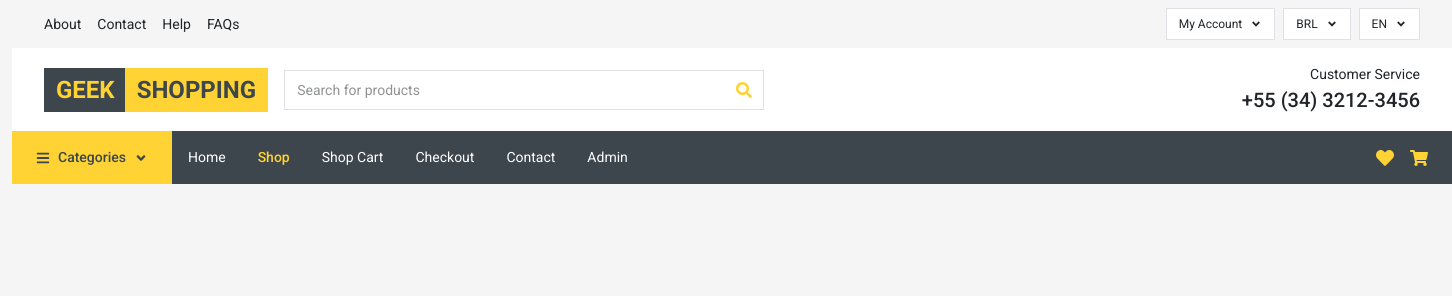
Header › closes the menu when a category is chosen
Click the button "Categories". click: [92, 158]
box: [12, 131, 172, 184]
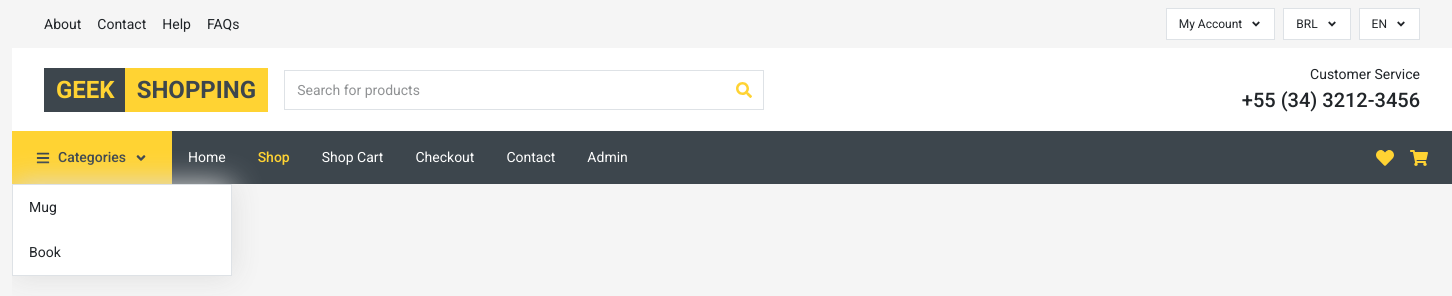
Click the link "Mug". click: [43, 207]
box: [29, 199, 57, 215]
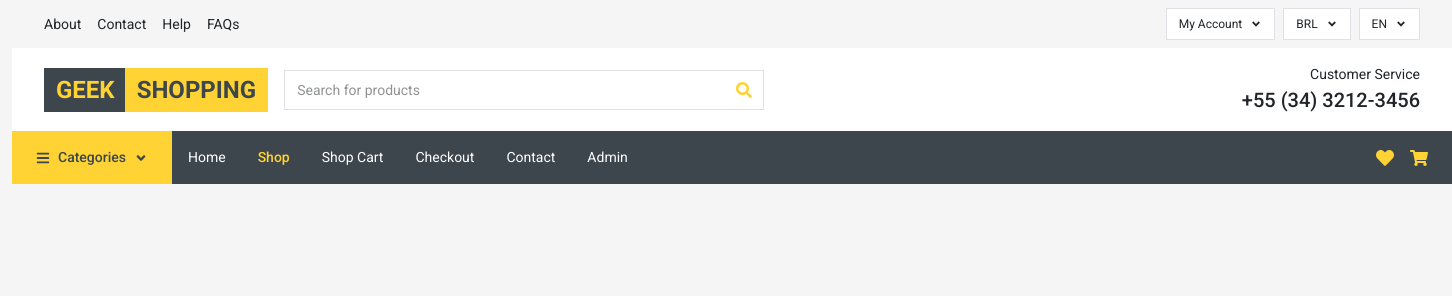
Expected: the link "Mug" is gone
